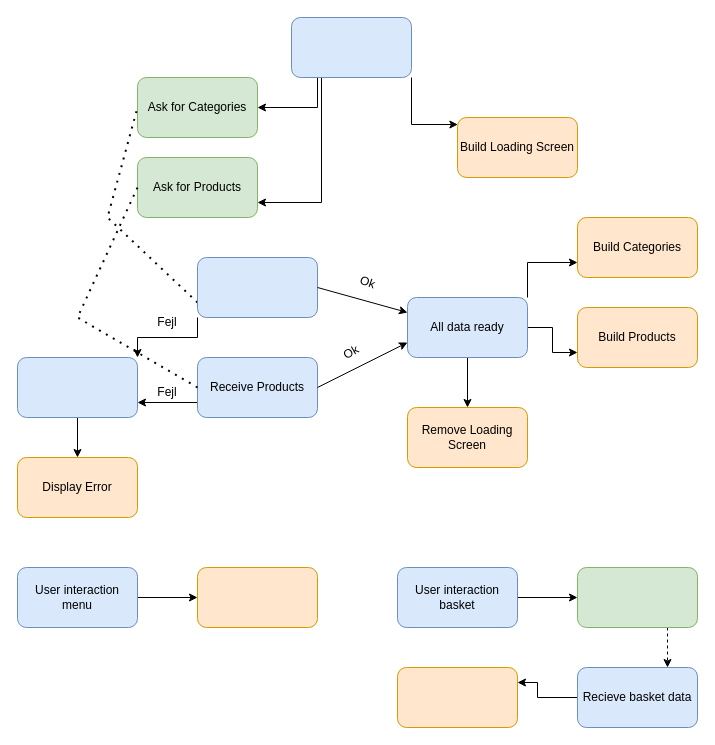
Image size: 715x745. Some labels were removed from this diagram. Here are the shapes that lost their labels. From the top down, the centre of each, then its label:
point 351,47: Entry Point
point 257,287: Receive categories
point 77,387: Error System
point 257,597: Build navigation
point 637,597: Ask for basket data
point 457,697: Build Basket
